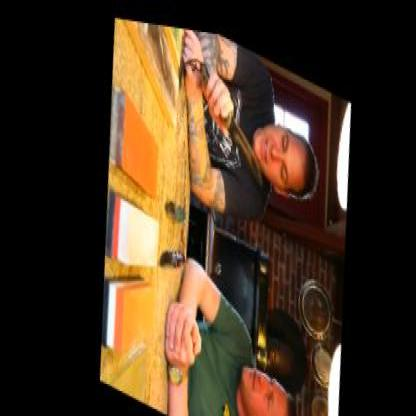knife: (201, 68, 274, 186)
